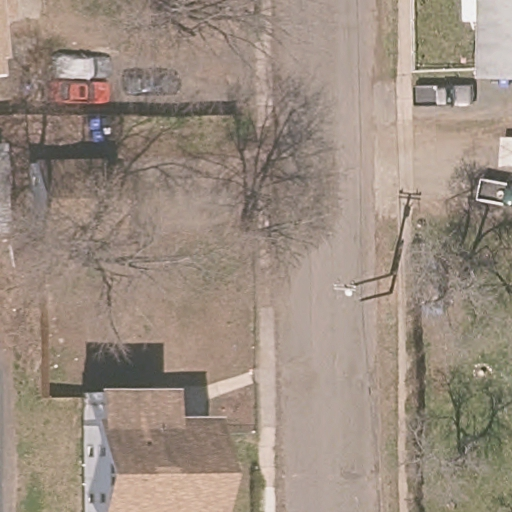DT: (354, 270, 397, 286)
